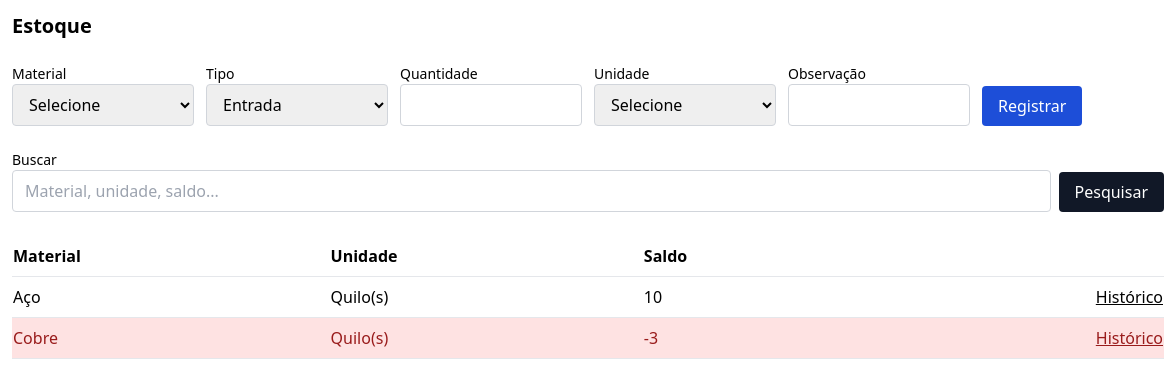
Test: EstoquePage › desabilita o botão enquanto salva (sem duplo envio)
The image size is (1176, 376).
Expected: the cell "Aço" is shown, [12, 276, 330, 318]
Select "Aço (Quilo(s))" in the dropdown labelled "Material" at (103, 105), box [12, 84, 194, 126]
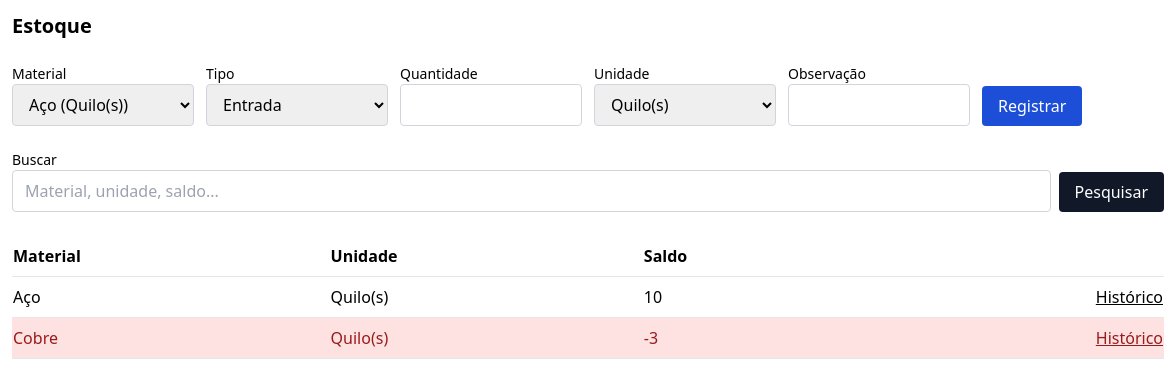
Select "Entrada" in the dropdown labelled "Tipo" at (297, 105), box [206, 84, 388, 126]
Type "1" into the number field labelled "Quantidade" at (491, 105), box [400, 84, 582, 126]
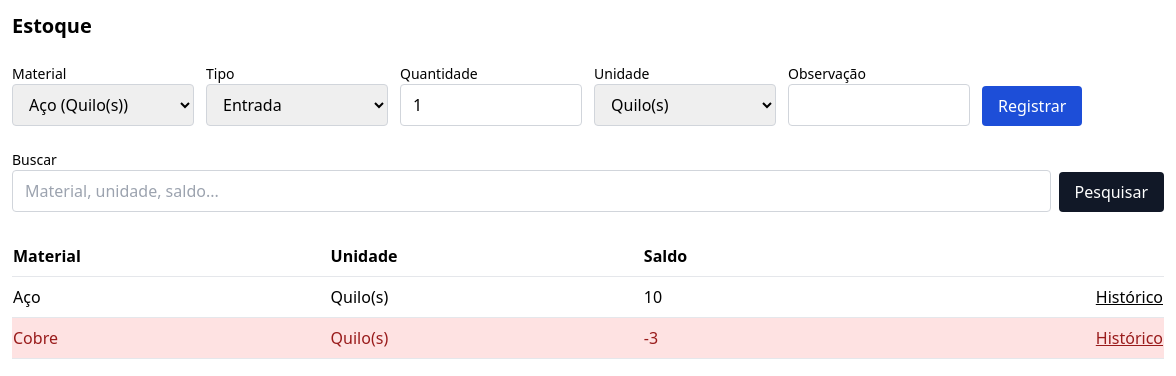
Click the button "Registrar" at (1032, 106), box [982, 86, 1082, 126]
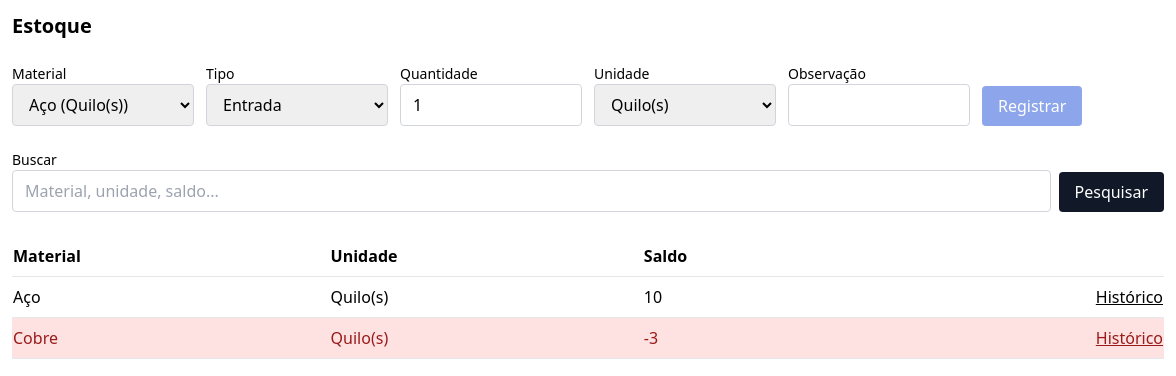
Result: the button "Registrar" is disabled
Click the button "Registrar" at (1032, 106), box [982, 86, 1082, 126]
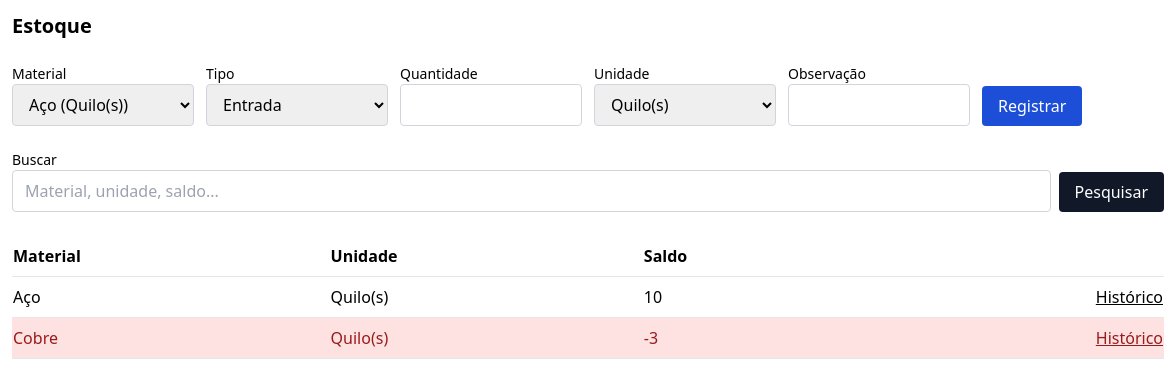
Result: the button "Registrar" is enabled at [982, 86, 1082, 126]
